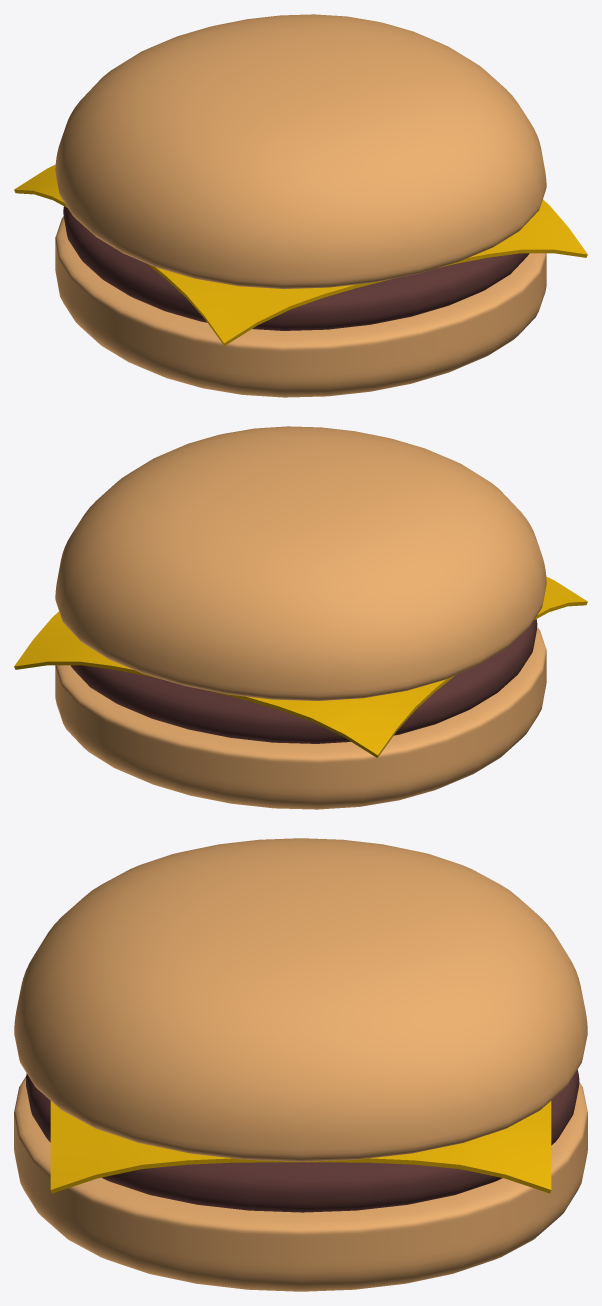
The model's file is massive-burger.glb.
3 renders of one model, top to bottom at view 1: azimuth 30°, elevation 25°; view 2: azimuth 150°, elevation 25°; view 3: azimuth 270°, elevation 25°, orthographic. The views are drawn at different scales.
Visible parts, largest first — view 1: topBun, bottomBun, meat, cheese; view 2: topBun, bottomBun, meat, cheese; view 3: topBun, bottomBun, meat, cheese.
Part boxes in pixels (box(x1,y1,x2,y2)): topBun: box(55, 14, 546, 288); bottomBun: box(55, 216, 546, 397); meat: box(63, 206, 529, 330); cheese: box(14, 164, 587, 345); topBun: box(55, 426, 546, 700); bottomBun: box(55, 627, 546, 809); meat: box(70, 619, 537, 743); cheese: box(14, 576, 587, 757); topBun: box(14, 838, 587, 1161); bottomBun: box(14, 1076, 587, 1291); meat: box(26, 1069, 579, 1212); cheese: box(50, 1101, 551, 1193).
Bounding box in the file's own units: 141 × 84.31 × 141.
